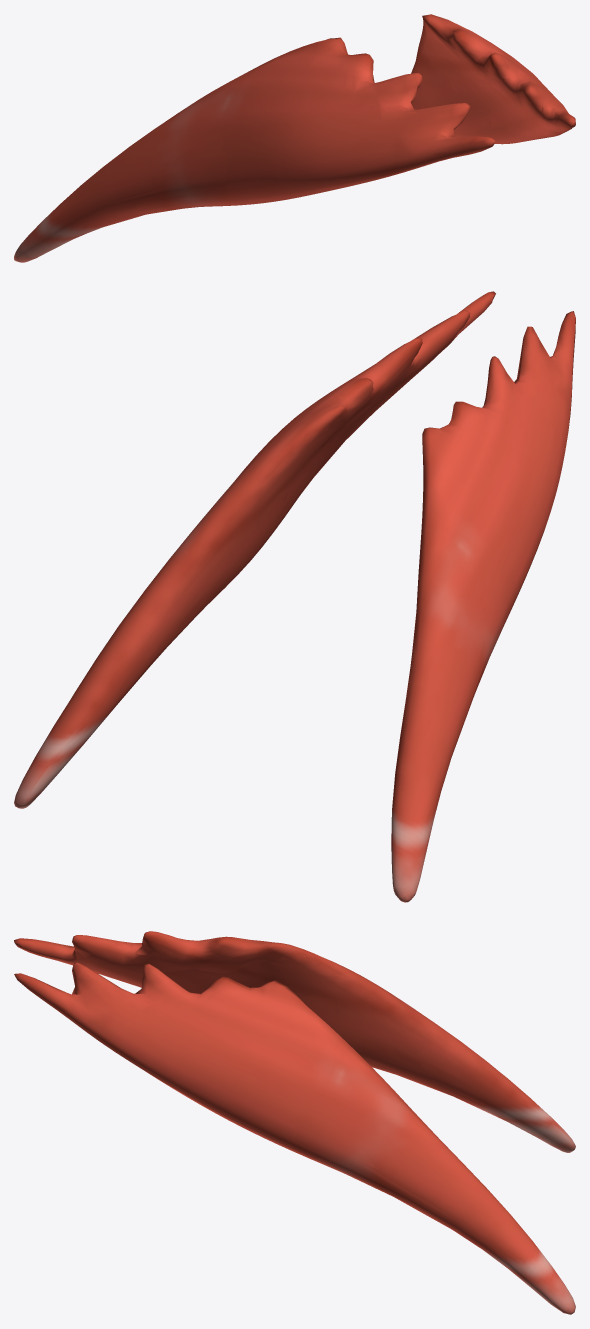
The model's file is Psoas major.fbx.
3 renders of one model, top to bottom at view 1: azimuth 30°, elevation 25°; view 2: azimuth 150°, elevation 25°; view 3: azimuth 270°, elevation 25°, orthographic. The views are drawn at different scales.
Visible parts, largest first — view 1: Psoas major, Psoas major low; view 2: Psoas major, Psoas major low; view 3: Psoas major, Psoas major low.
Part boxes in pixels (x1=…): Psoas major: x1=14, y1=14, x2=575, y2=262; Psoas major low: x1=39, y1=19, x2=561, y2=254; Psoas major: x1=14, y1=291, x2=575, y2=902; Psoas major low: x1=116, y1=318, x2=573, y2=845; Psoas major: x1=14, y1=931, x2=575, y2=1314; Psoas major low: x1=48, y1=936, x2=543, y2=1284.
Size of the model in its own units: 14.26 by 11.23 by 20.1.
